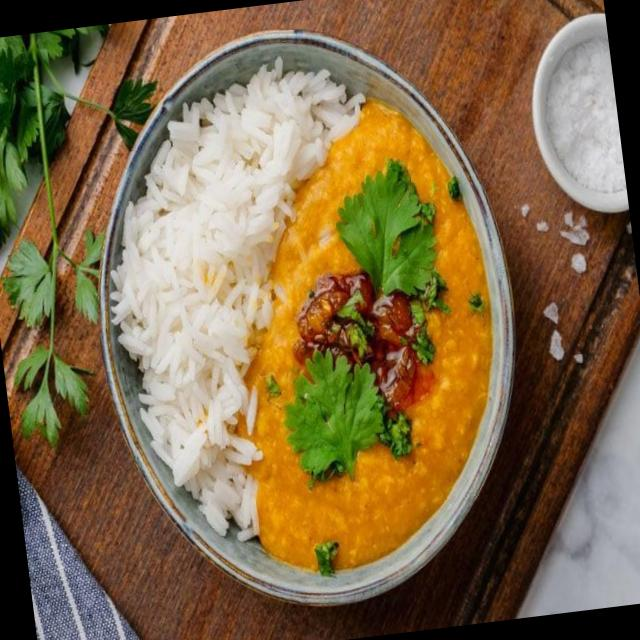dal: (252, 106, 494, 574)
rice: (118, 80, 363, 547)
